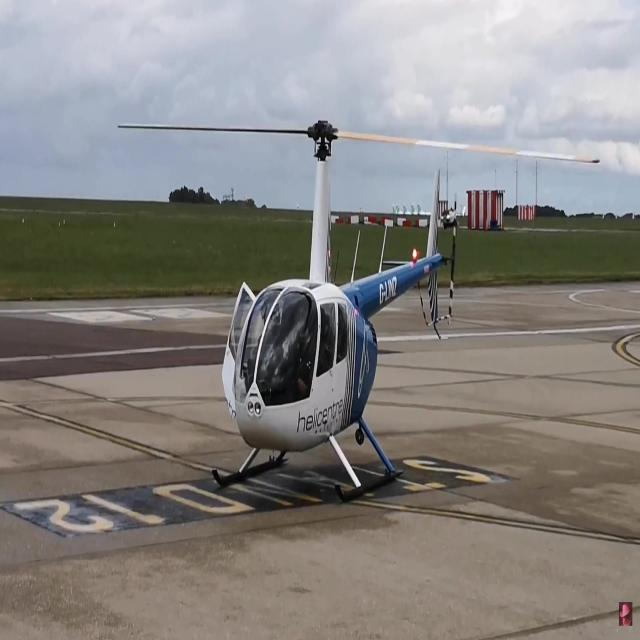CIV_HELO: (209, 115, 445, 508)
